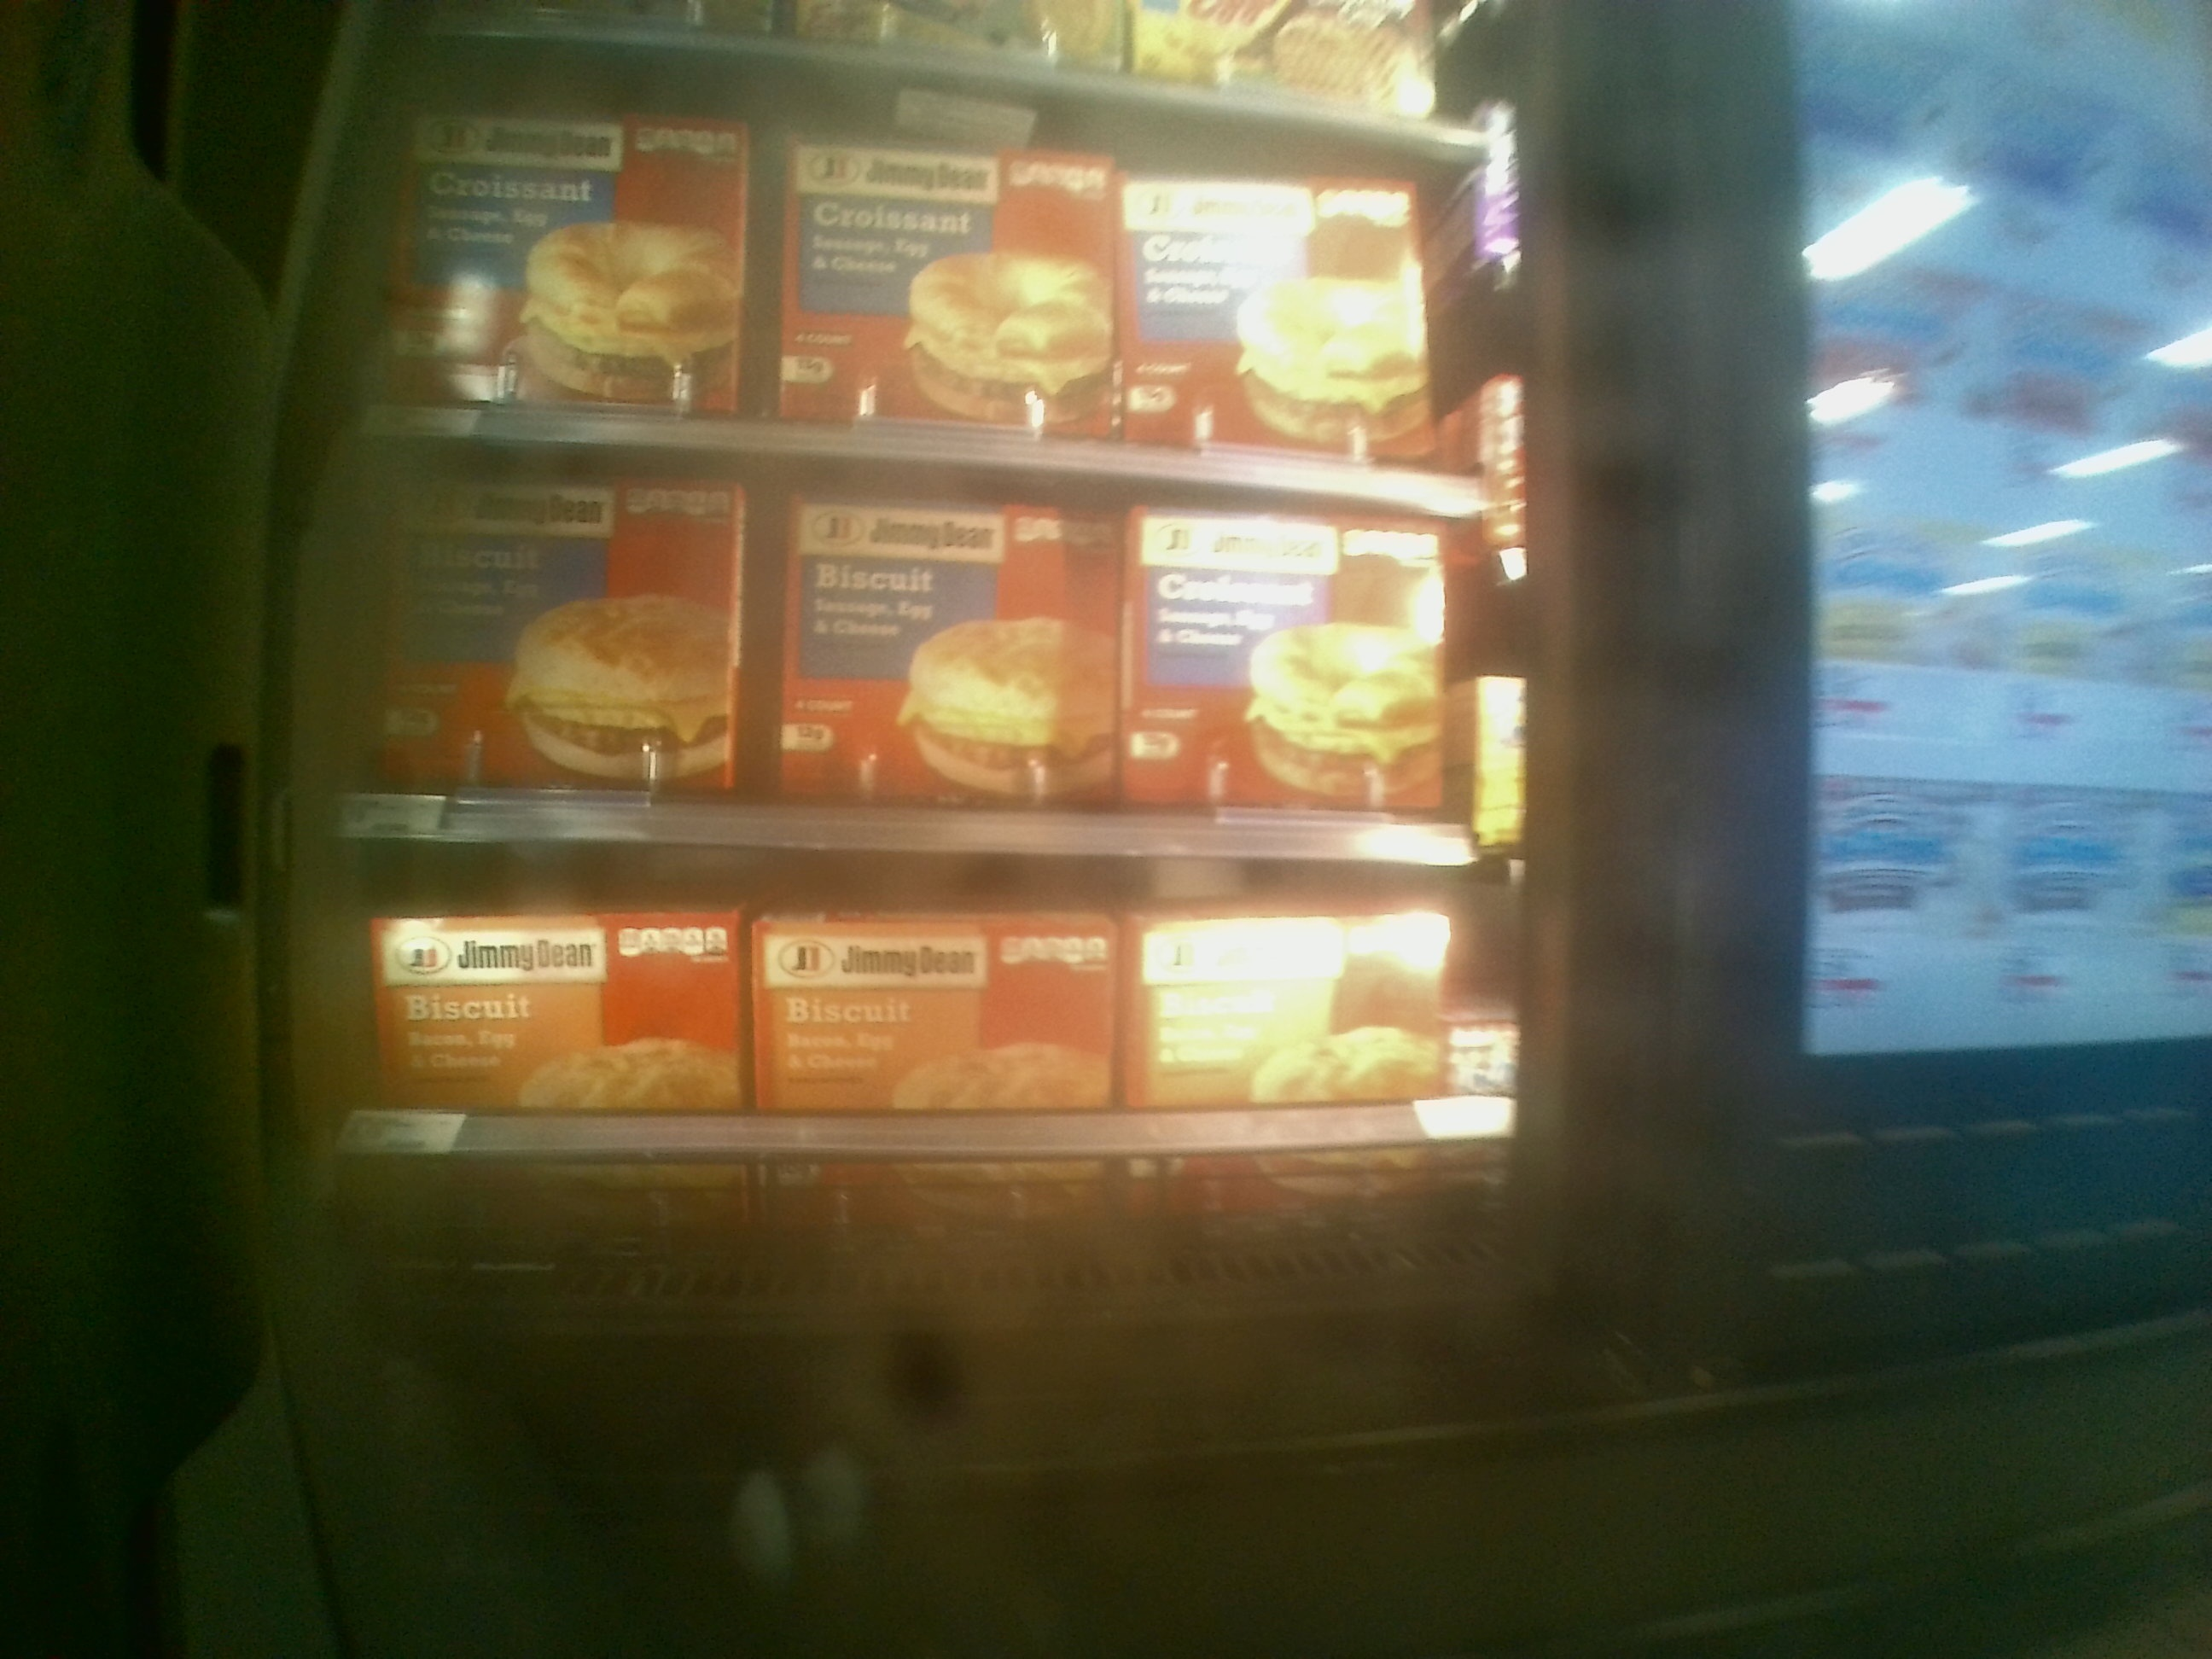shelf: (308, 847, 1529, 1300), (314, 427, 1519, 847)
